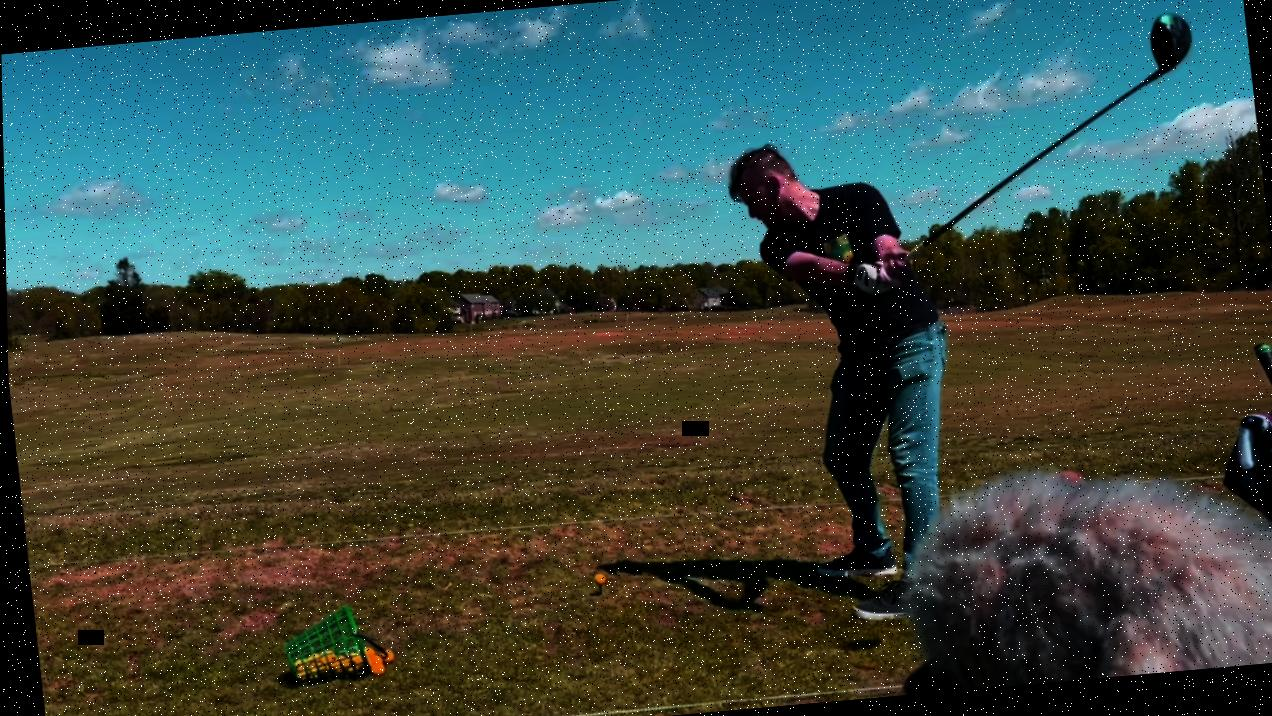ClubHead: (1135, 6, 1202, 86)
GolfBall: (587, 570, 606, 588)
